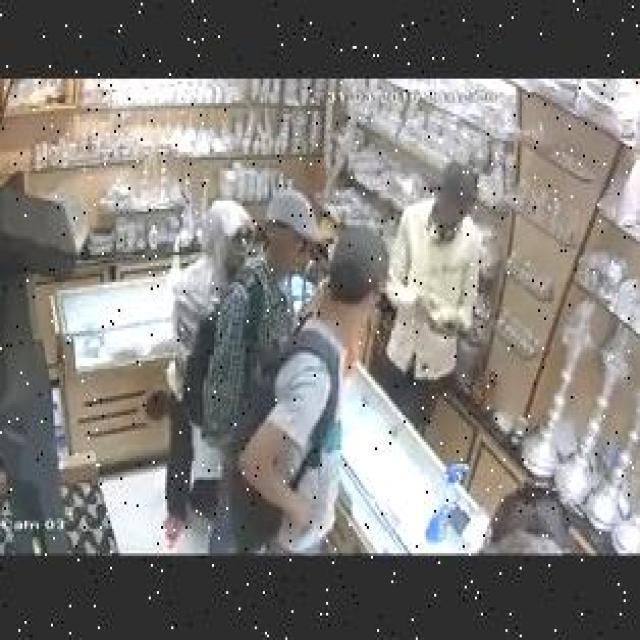Shoplifting: (141, 171, 428, 537)
